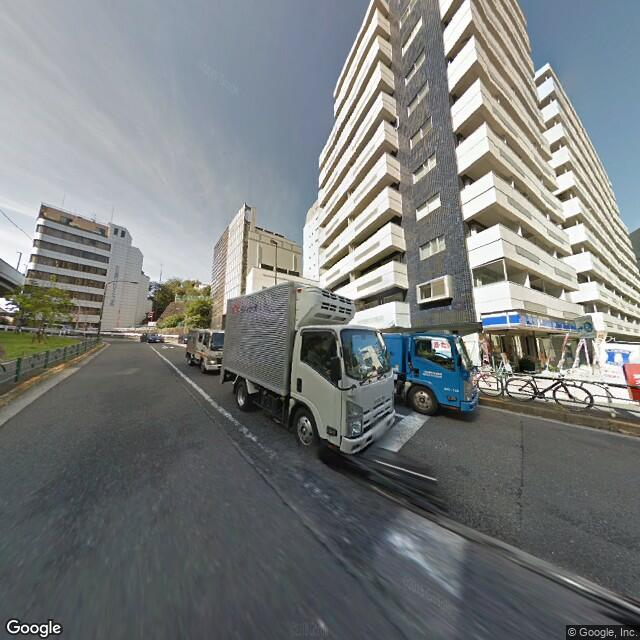lawson: (476, 307, 579, 341), (599, 343, 632, 372)
